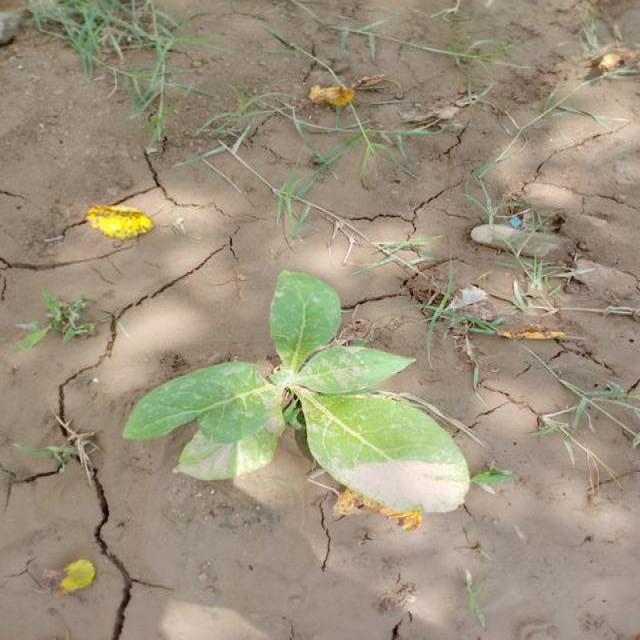crop: (122, 267, 472, 517)
